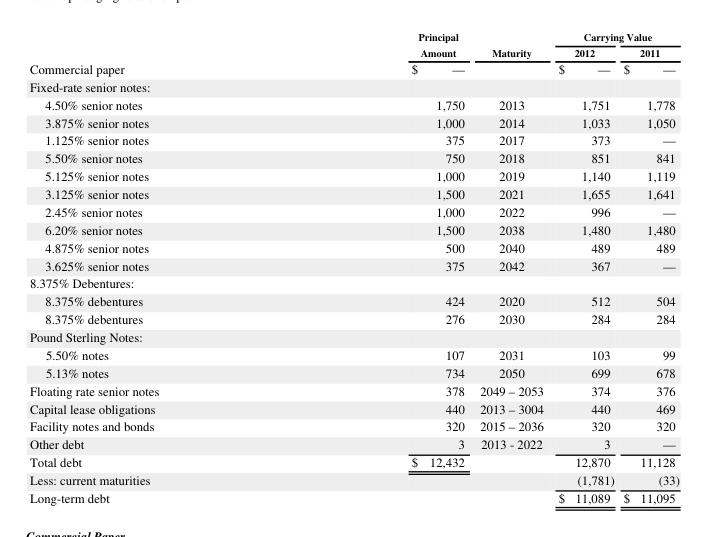table: (28, 29, 678, 505)
table column: (28, 29, 284, 505), (284, 29, 471, 505), (471, 29, 550, 505), (550, 29, 618, 505), (618, 29, 678, 505)
table column header: (28, 29, 678, 59)
table projected row header: (28, 76, 678, 94), (28, 273, 678, 291), (28, 327, 678, 345)
table row: (28, 76, 678, 94), (28, 94, 678, 112), (28, 112, 678, 130), (28, 130, 678, 148), (28, 148, 678, 166), (28, 166, 678, 184), (28, 184, 678, 202), (28, 219, 678, 237), (28, 237, 678, 255), (28, 255, 678, 273), (28, 273, 678, 291), (28, 291, 678, 309), (28, 309, 678, 327), (28, 327, 678, 345), (28, 362, 678, 380), (28, 380, 678, 398), (28, 398, 678, 416), (28, 416, 678, 434), (28, 434, 678, 452), (28, 452, 678, 470), (28, 470, 678, 488), (28, 59, 678, 76), (28, 202, 678, 219), (28, 345, 678, 362), (28, 488, 678, 505), (28, 29, 678, 44), (28, 44, 678, 59)
table spanning cell: (284, 29, 471, 59), (471, 29, 550, 59), (550, 29, 678, 44)
